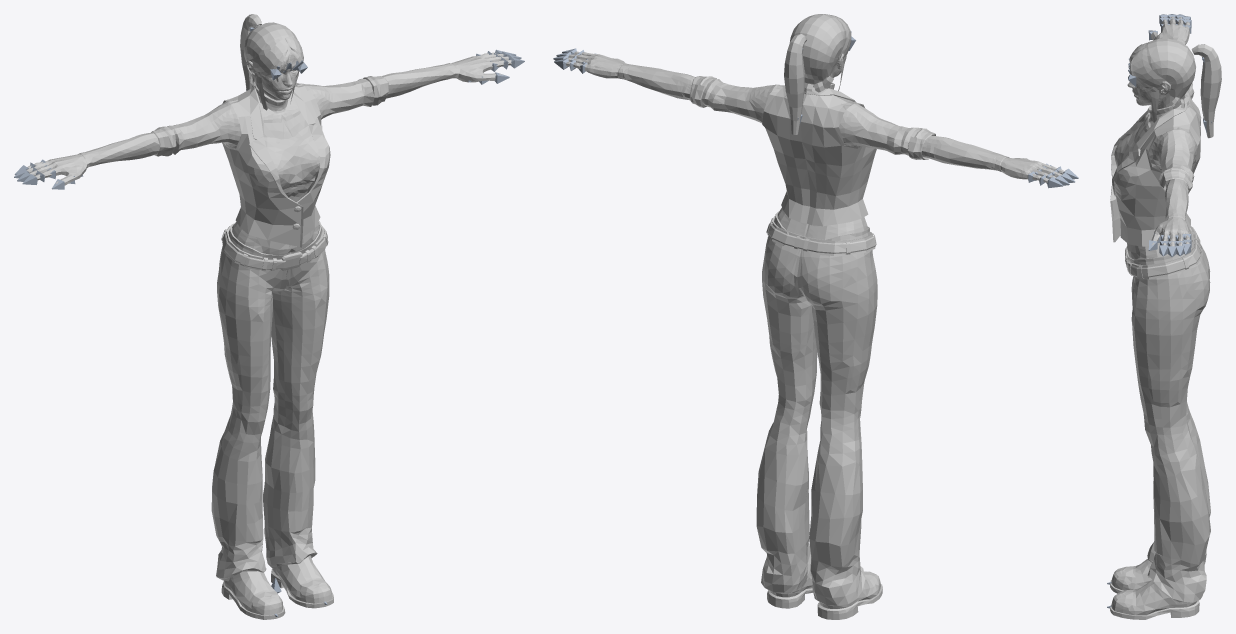
File: claire.obj
3 renders of one model, left to right at view 1: azimuth 30°, elevation 25°; view 2: azimuth 150°, elevation 25°; view 3: azimuth 270°, elevation 25°, orthographic. The views are drawn at different scales.
Parts seen in each view (by area): view 1: Object01; view 2: Object01; view 3: Object01.
Part boxes in pixels (box(x1,y1,x2,y2)): Object01: box(26, 14, 511, 619); Object01: box(566, 14, 1064, 619); Object01: box(1110, 16, 1221, 619).
Size of the model in its own units: 64.38 by 69.28 by 12.89.
